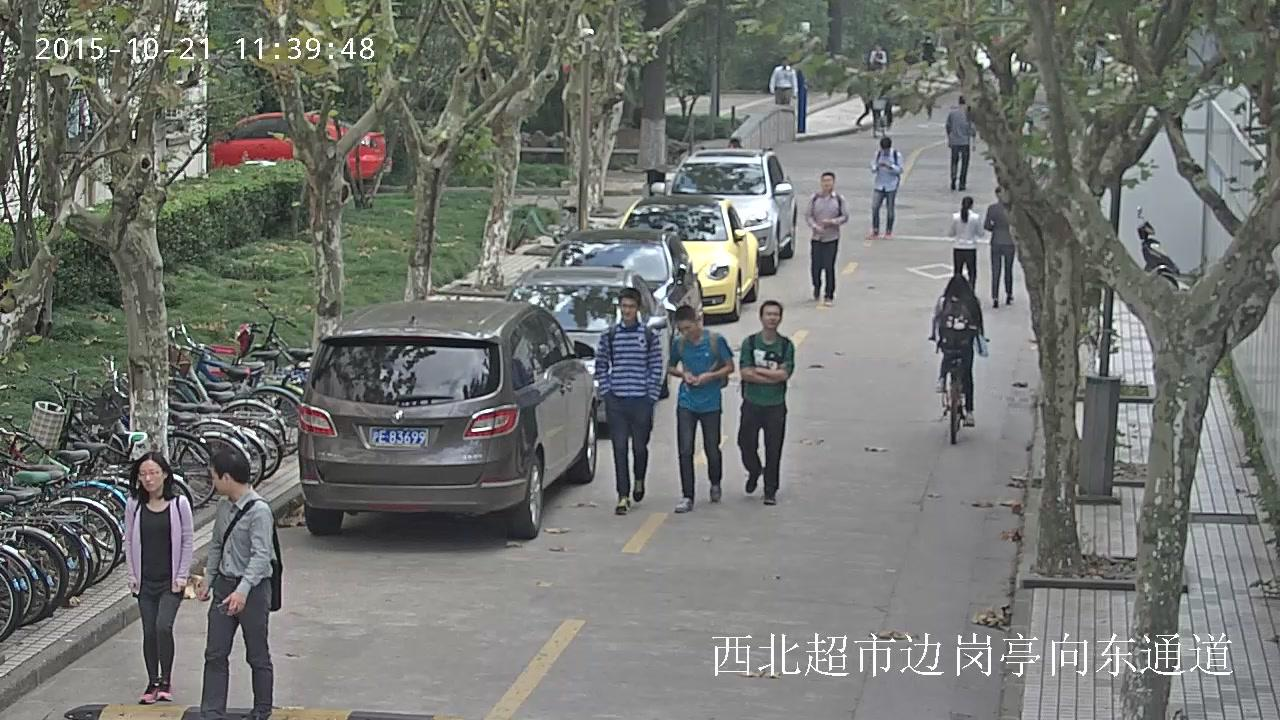face: (139, 459, 161, 494), (761, 304, 781, 330), (210, 468, 225, 496), (619, 299, 636, 320), (680, 321, 698, 339), (822, 176, 834, 191), (880, 146, 890, 156), (874, 43, 881, 50), (781, 57, 787, 65)
